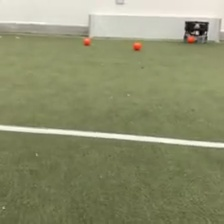ball: (133, 41, 142, 51), (83, 36, 91, 46), (187, 35, 195, 43)
goal: (87, 12, 222, 43)
robot: (183, 20, 209, 44)
